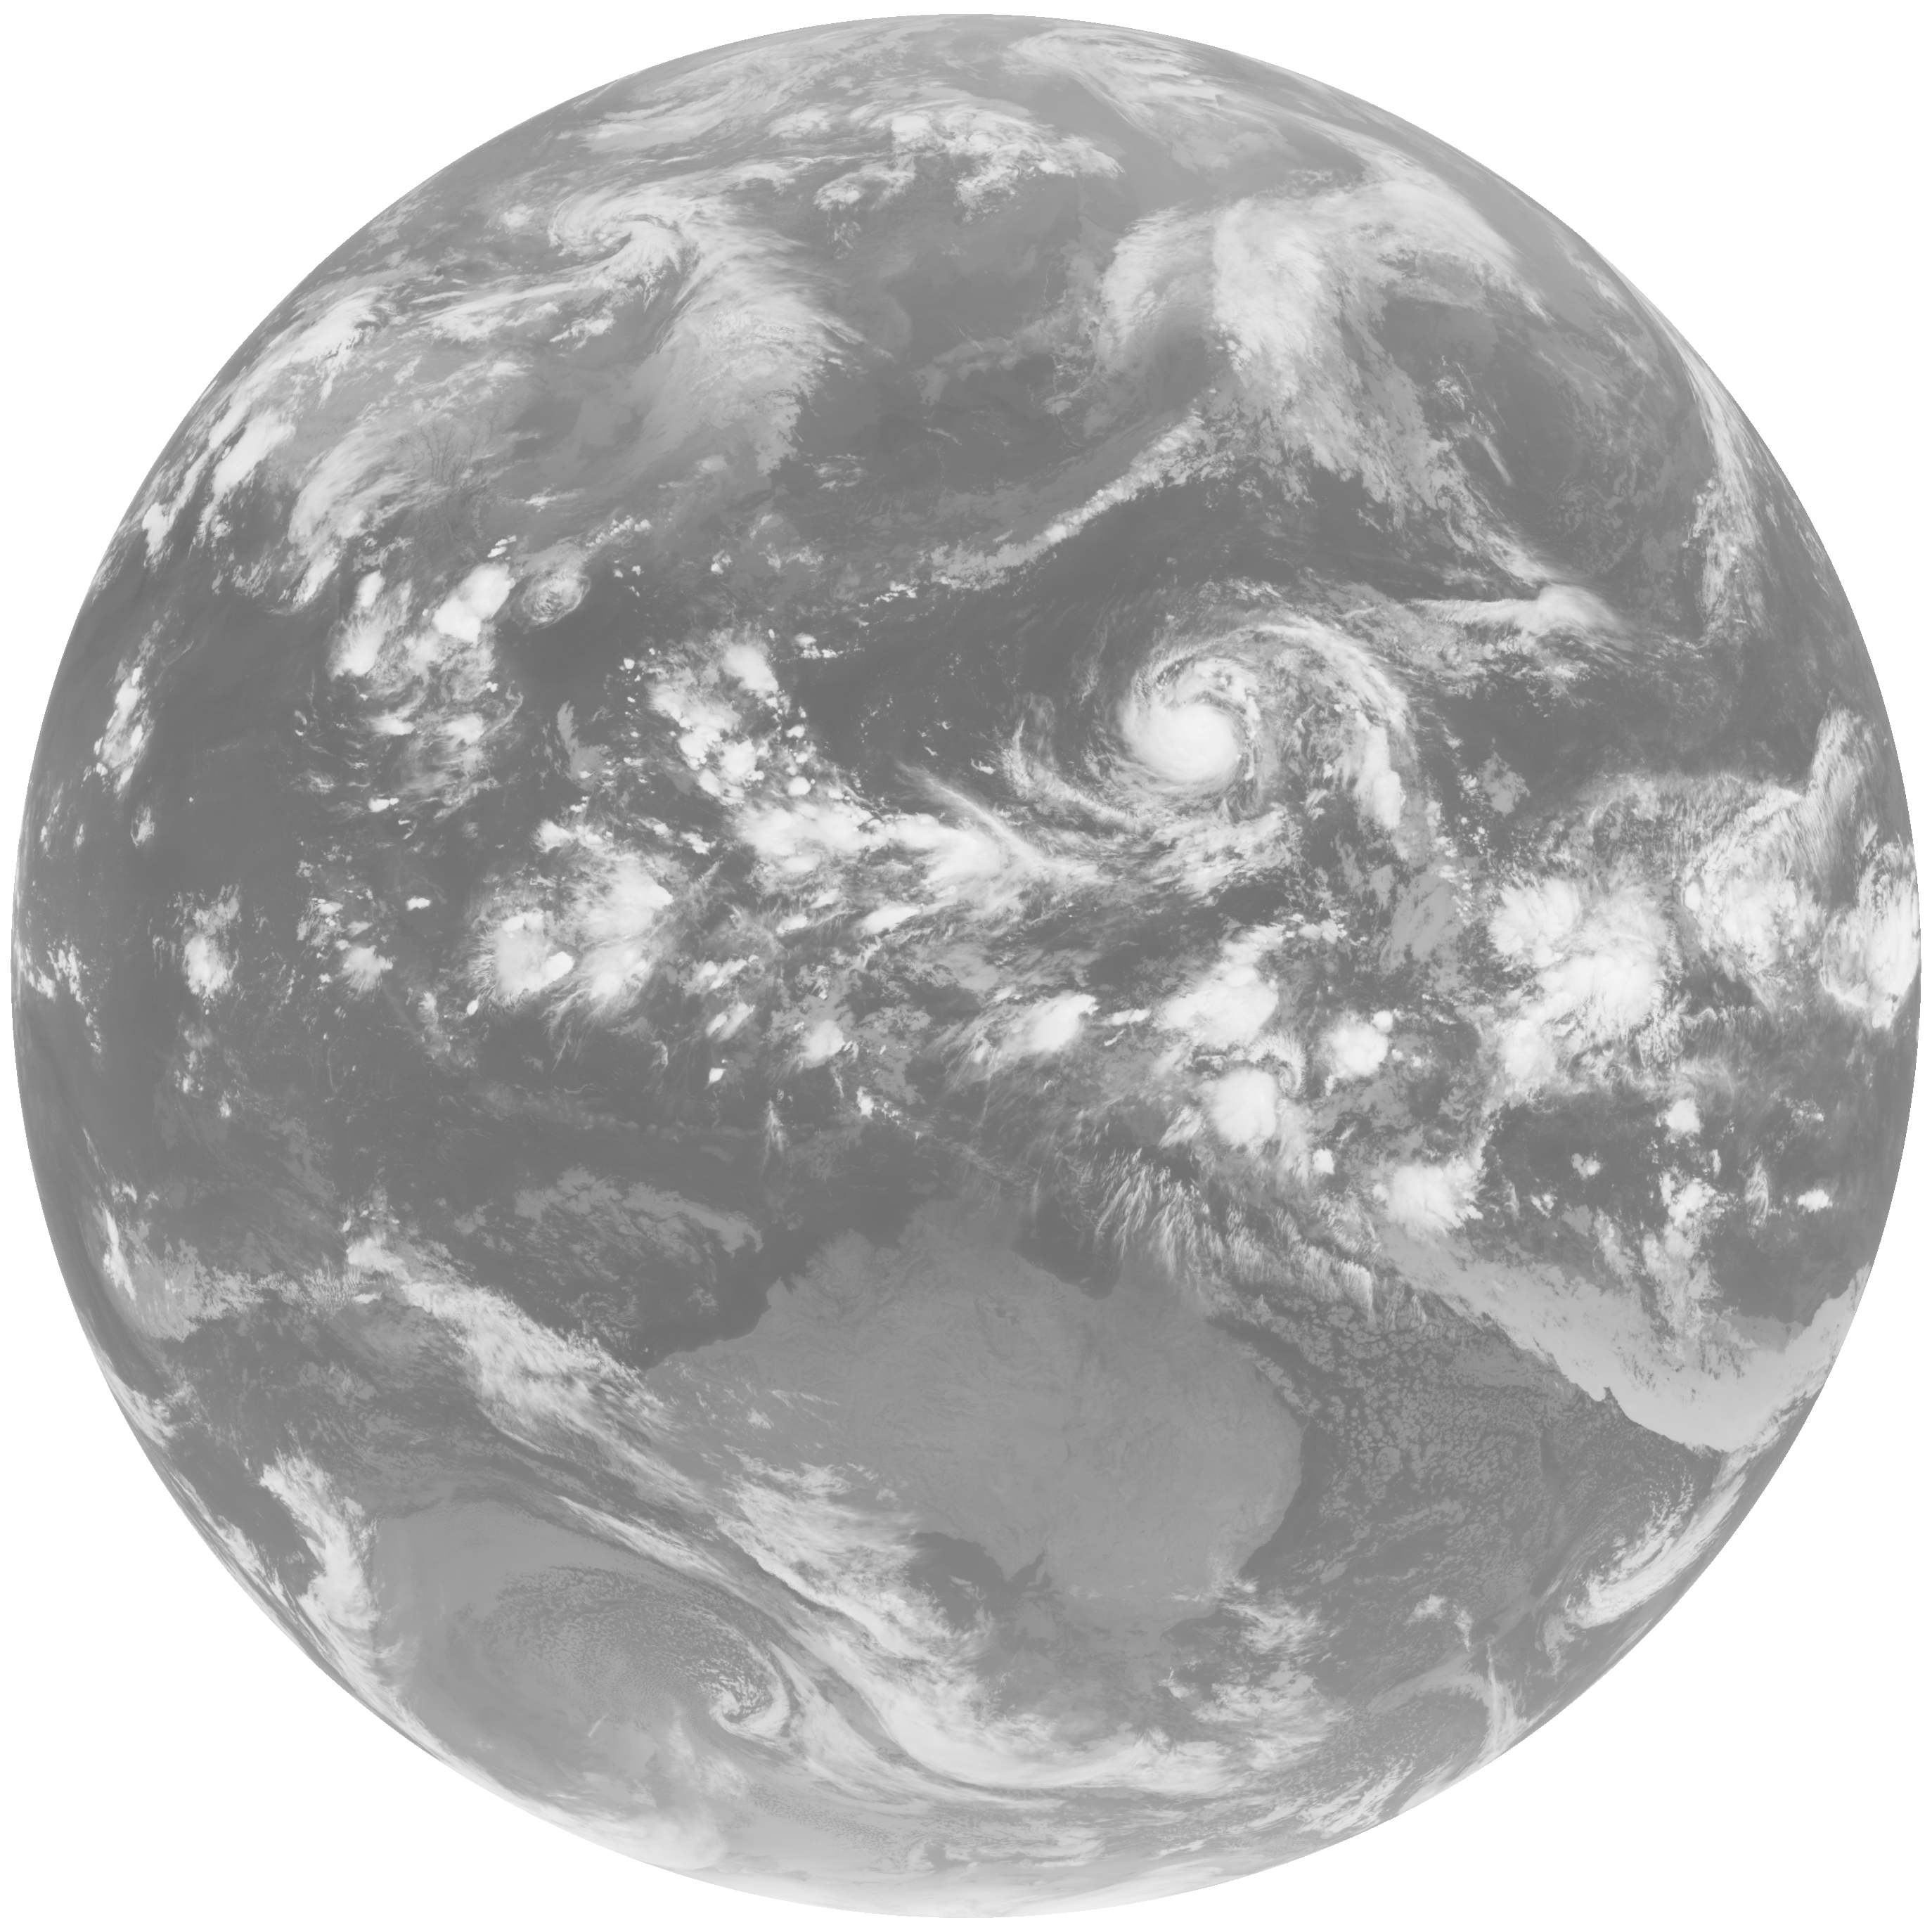typhoon: (998, 556, 1493, 870)
